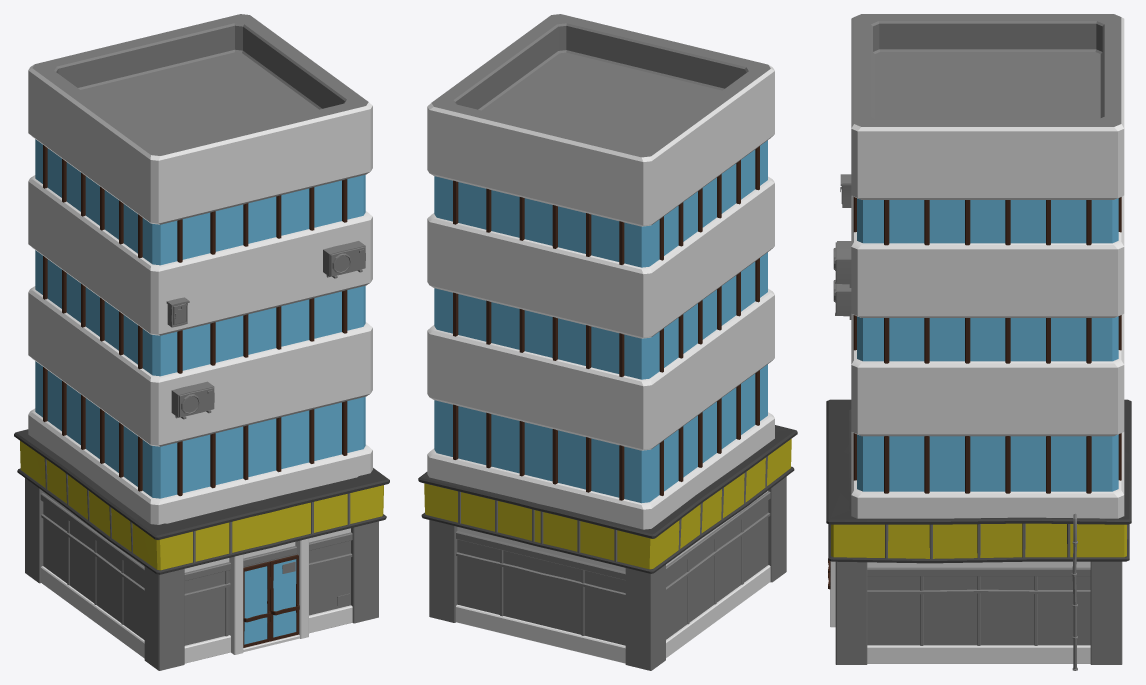
The model's file is SM_shop_04.fbx.
3 renders of one model, left to right at view 1: azimuth 30°, elevation 25°; view 2: azimuth 150°, elevation 25°; view 3: azimuth 270°, elevation 25°, orthographic. The views are drawn at different scales.
Visible parts, largest first — view 1: Object32408; view 2: Object32408; view 3: Object32408.
Part boxes in pixels (<box>): Object32408: <box>14,14,389,670</box>; Object32408: <box>418,14,797,670</box>; Object32408: <box>826,14,1131,670</box>.
Size of the model in its own units: 298 by 600 by 308.
